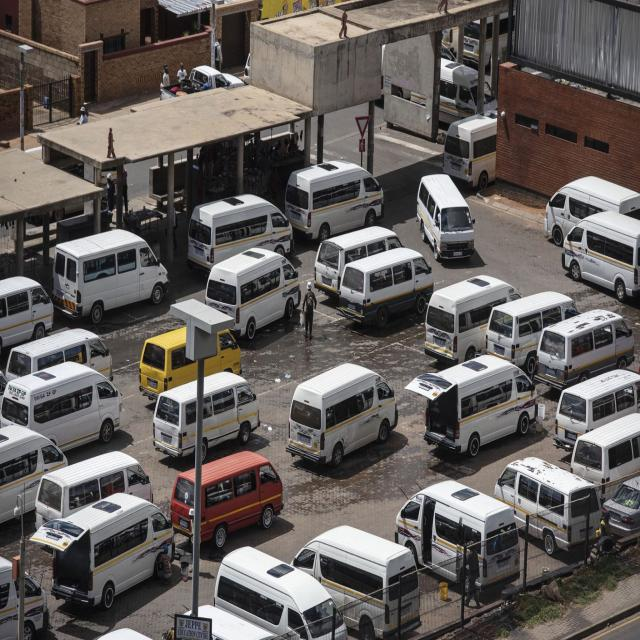MiniBus taxi: (288, 358, 401, 470), (51, 226, 173, 322), (284, 160, 390, 246), (337, 246, 435, 333), (415, 173, 480, 262)
